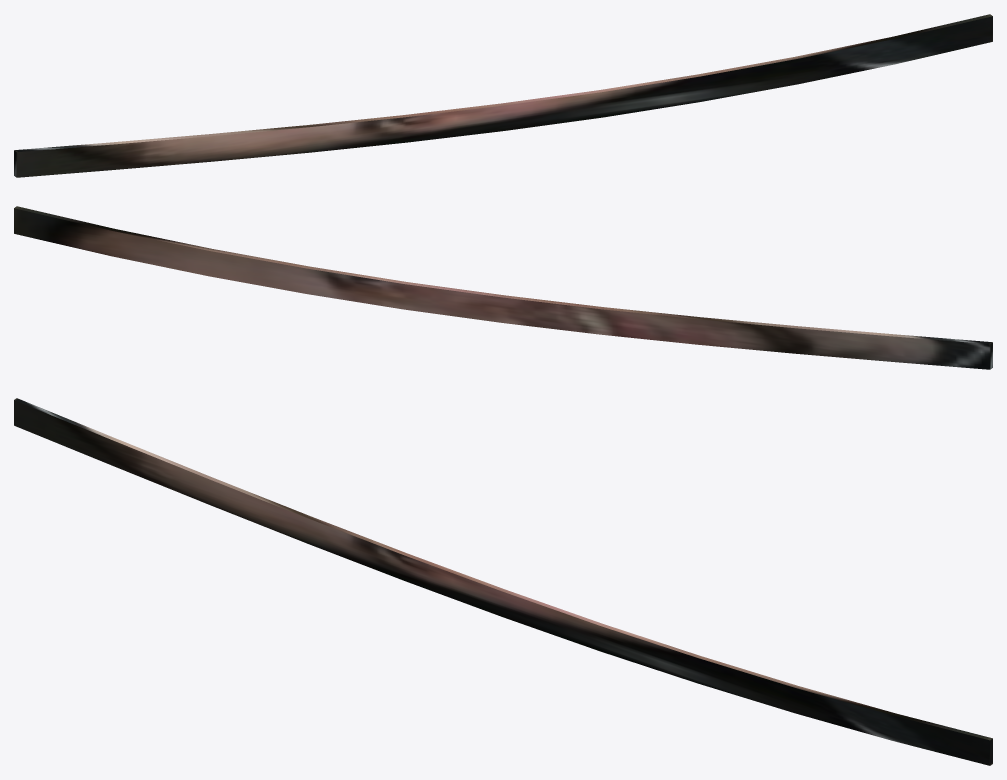
Rendered from wall_flat_up.obj.
3 renders of one model, top to bottom at view 1: azimuth 30°, elevation 25°; view 2: azimuth 150°, elevation 25°; view 3: azimuth 330°, elevation 25°, orthographic.
Parts seen in each view (by area): view 1: wall_Plane.015; view 2: wall_Plane.015; view 3: wall_Plane.015.
Part boxes in pixels (x1,y1,x2,y2): wall_Plane.015: (14,14,992,177); wall_Plane.015: (14,206,992,369); wall_Plane.015: (14,398,992,765).
Size of the model in its own units: 10 by 1.25 by 0.05.
